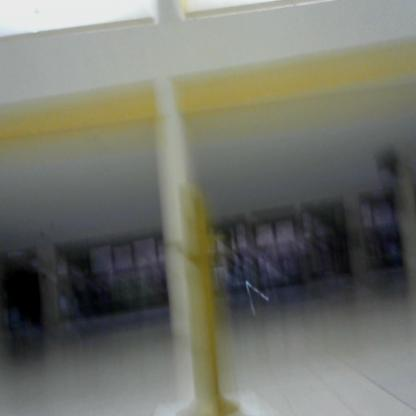pole: (170, 182, 242, 416)
